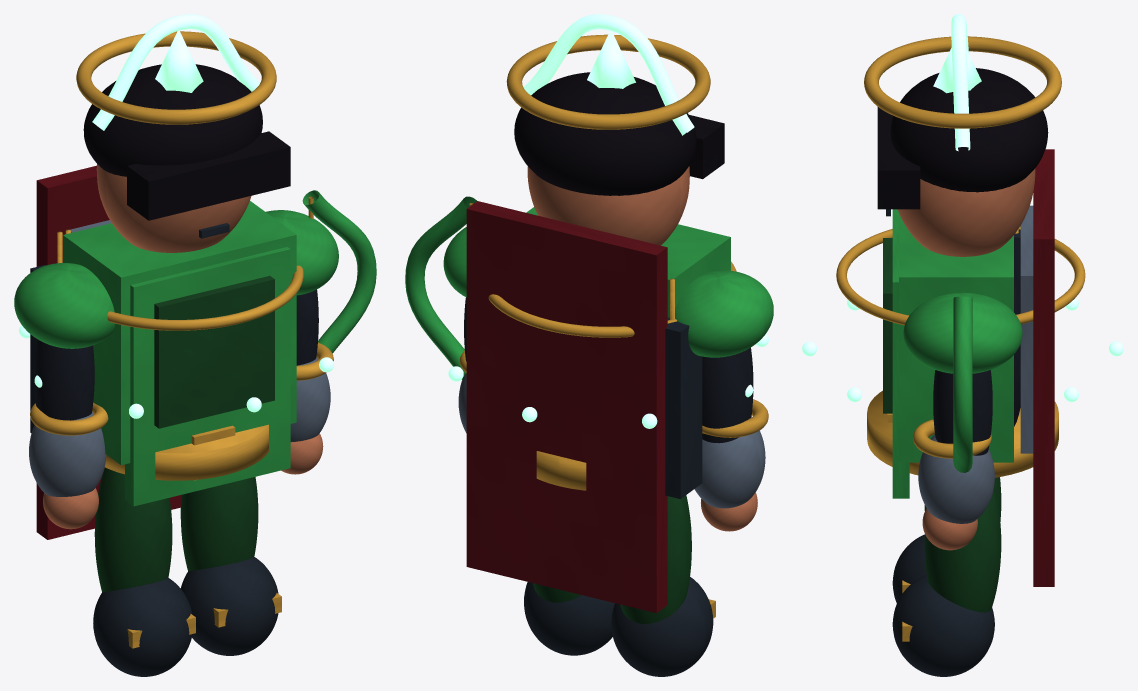
Rendered from Transcendence.glb.
3 renders of one model, left to right at view 1: azimuth 30°, elevation 25°; view 2: azimuth 150°, elevation 25°; view 3: azimuth 270°, elevation 25°, orthographic. The views are drawn at different scales.
Visible parts, largest first — view 1: ArcherTunic, LeatherChestGuard, ChestPlate, Hair, HairFringe, Boot, Leg, Boot.001, Shoulder, Leg.001, CrownRing, Cape (+15 smaller); view 2: Cape, Hair, Shoulder, Head, Quiver, CrownRing, Boot, Boot.001, Gauntlet, Bow, Arm, TranscendentCrest (+9 smaller); view 3: Hair, ChestPlate, Cape, Head, Boot.001, CrownRing, Shoulder.001, Leg.001, Gauntlet.001, Bow, BackArmor, HairFringe (+11 smaller).
Boxes of the visible parts, bbox=[...] form: ArcherTunic: bbox=[125, 247, 290, 506]; LeatherChestGuard: bbox=[154, 276, 274, 428]; ChestPlate: bbox=[63, 201, 296, 465]; Hair: bbox=[83, 64, 262, 176]; HairFringe: bbox=[127, 131, 290, 220]; Boot: bbox=[93, 578, 192, 676]; Leg: bbox=[94, 467, 172, 592]; Boot.001: bbox=[180, 557, 278, 655]; Shoulder: bbox=[14, 263, 115, 348]; Leg.001: bbox=[180, 477, 258, 571]; CrownRing: bbox=[76, 31, 276, 124]; Cape: bbox=[36, 165, 181, 539]; Cape: bbox=[466, 201, 667, 613]; Hair: bbox=[514, 72, 696, 195]; Shoulder: bbox=[675, 270, 773, 357]; Head: bbox=[527, 166, 689, 245]; Quiver: bbox=[665, 317, 702, 498]; CrownRing: bbox=[506, 34, 710, 129]; Boot: bbox=[611, 577, 713, 676]; Boot.001: bbox=[524, 582, 614, 655]; Gauntlet: bbox=[694, 430, 765, 508]; Bow: bbox=[405, 196, 476, 379]; Arm: bbox=[702, 347, 753, 443]; TranscendentCrest: bbox=[523, 14, 694, 135]; Hair: bbox=[890, 68, 1048, 192]; ChestPlate: bbox=[899, 213, 1013, 462]; Cape: bbox=[1033, 149, 1054, 586]; Head: bbox=[897, 168, 1035, 256]; Boot.001: bbox=[892, 575, 994, 676]; CrownRing: bbox=[864, 36, 1061, 128]; Shoulder.001: bbox=[903, 292, 1022, 373]; Leg.001: bbox=[924, 487, 1001, 612]; Gauntlet.001: bbox=[918, 434, 994, 523]; Bow: bbox=[953, 296, 972, 472]; BackArmor: bbox=[1020, 205, 1033, 453]; HairFringe: bbox=[877, 107, 920, 209].
Size of the model in its own units: 1.88 by 3.27 by 1.51.
Materials: 12 (9 with a texture image).
